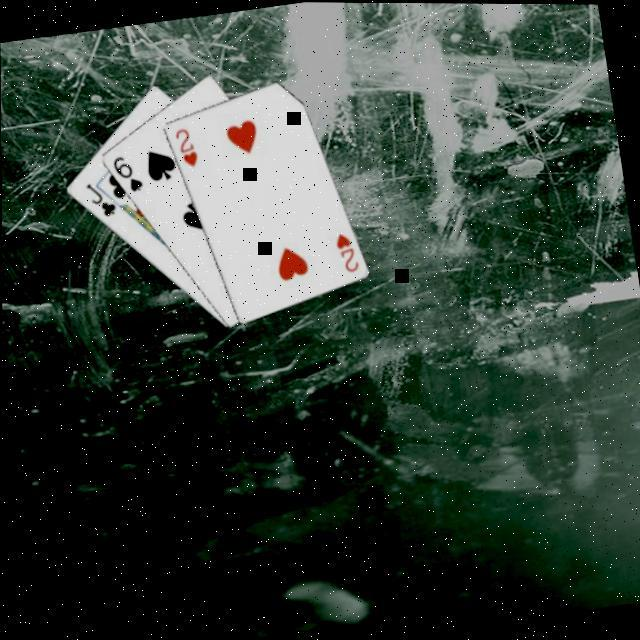2H: (332, 228, 364, 276), (172, 124, 202, 173)
6S: (108, 150, 146, 198)
JC: (82, 177, 121, 223)
